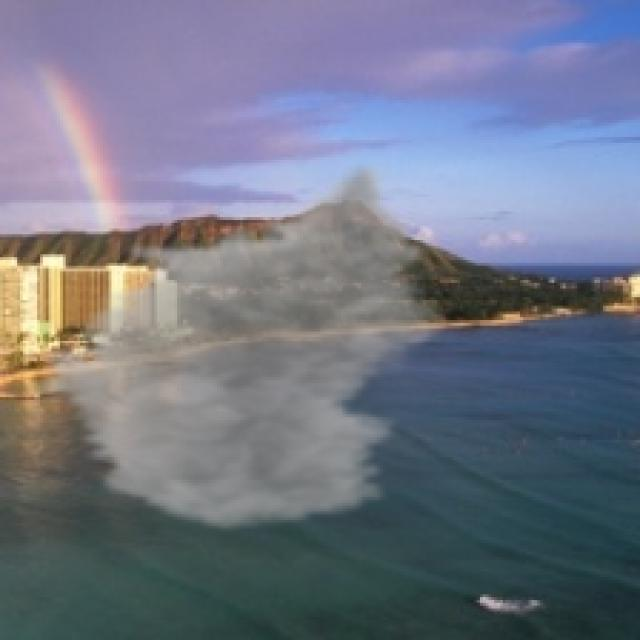Smoke: (28, 160, 454, 534)
